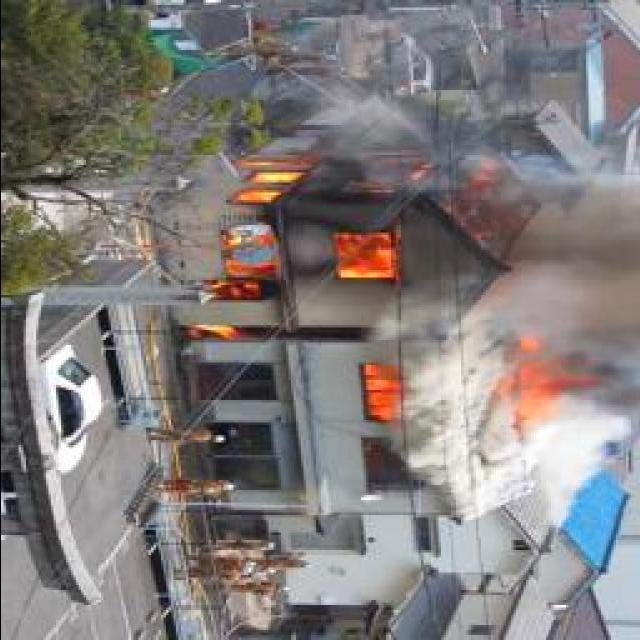Fire: (215, 149, 449, 303), (514, 328, 586, 439), (356, 363, 402, 427)
